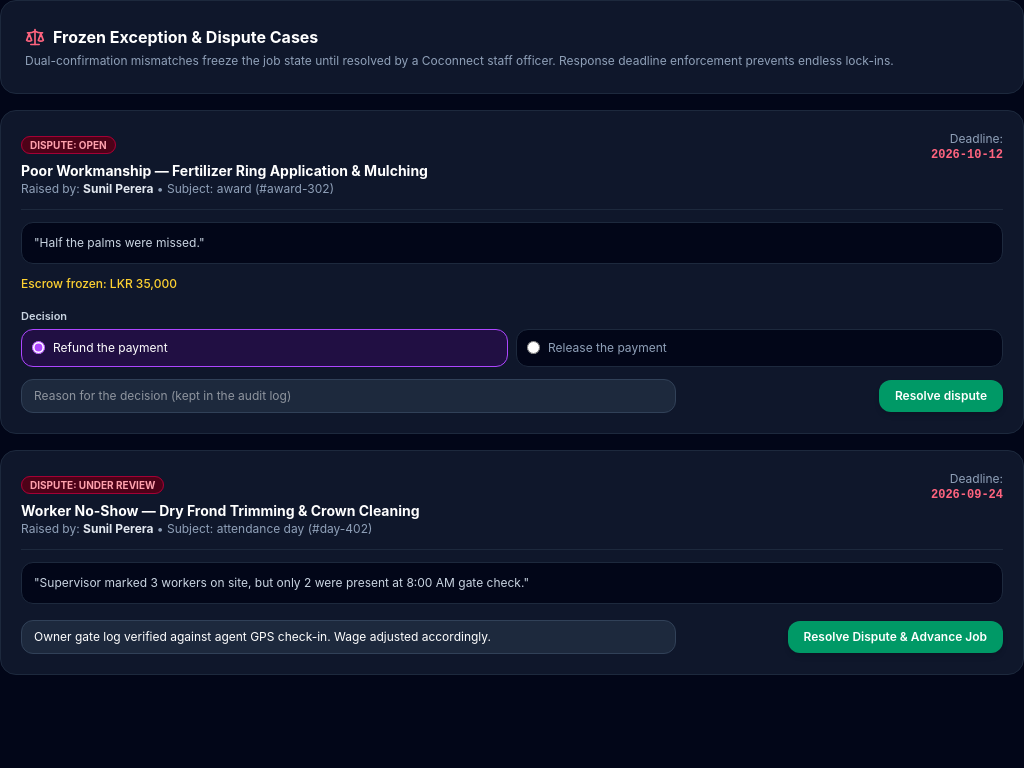
DisputesTab › needs a reason before deciding
Step 1. Click the button with test id "dispute-resolve" showing "Resolve dispute" → point(941, 396), box [879,380,1003,412]
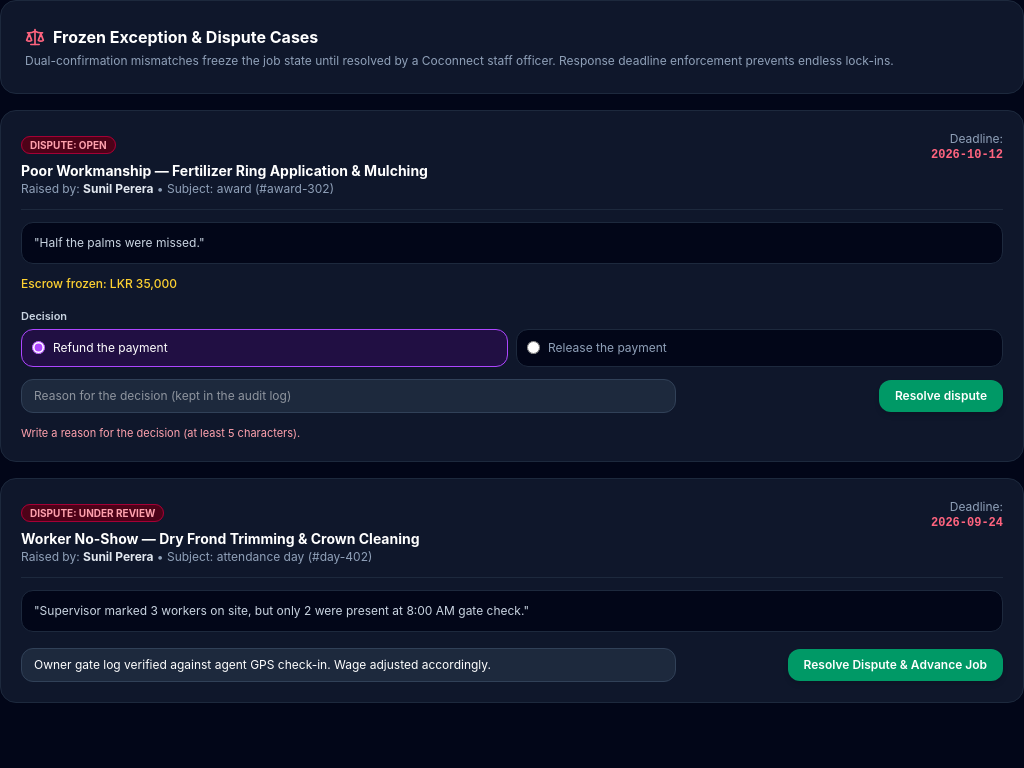
Check: the message shows "reason for the decision", box [21,426,300,440]
